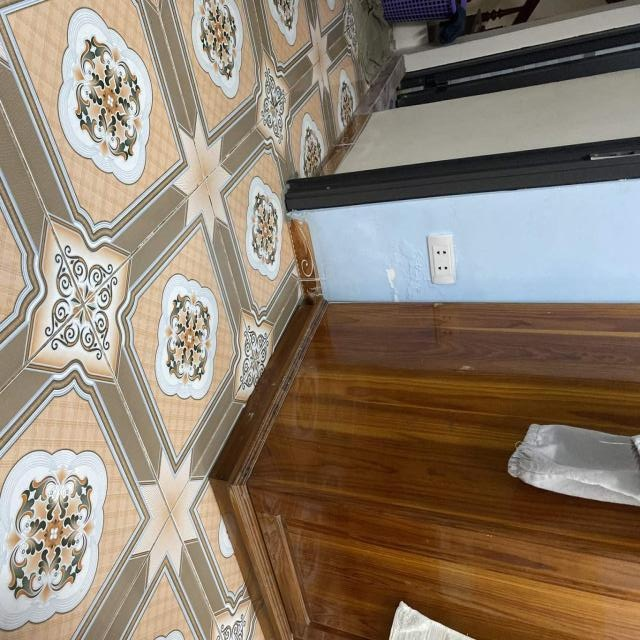outlet: (427, 234, 457, 284)
